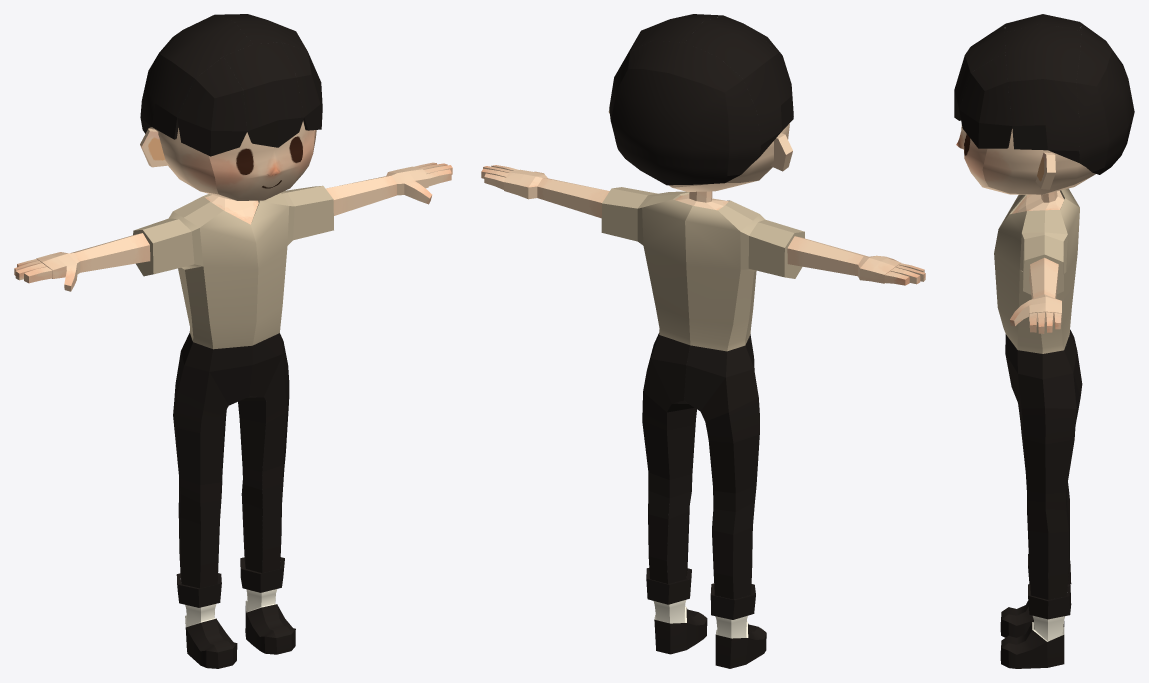
Rendered from NPC1_B_Texture.obj.
3 renders of one model, left to right at view 1: azimuth 30°, elevation 25°; view 2: azimuth 150°, elevation 25°; view 3: azimuth 270°, elevation 25°, orthographic.
Visible parts, largest first — view 1: Body_standardSurface9SG, Head_uv_standardSurface10SG_1, Head_uv_standardSurface10SG, ears_standardSurface10SG; view 2: Body_standardSurface9SG, Head_uv_standardSurface10SG_1, Head_uv_standardSurface10SG; view 3: Body_standardSurface9SG, Head_uv_standardSurface10SG_1, Head_uv_standardSurface10SG, ears_standardSurface10SG.
Boxes of the visible parts, box(x1,y1,x2,y2) form: Body_standardSurface9SG: box(14, 162, 452, 668); Head_uv_standardSurface10SG_1: box(140, 14, 322, 156); Head_uv_standardSurface10SG: box(148, 121, 316, 200); ears_standardSurface10SG: box(140, 129, 169, 167); Body_standardSurface9SG: box(481, 165, 925, 668); Head_uv_standardSurface10SG_1: box(609, 14, 793, 185); Head_uv_standardSurface10SG: box(669, 123, 789, 191); Body_standardSurface9SG: box(994, 188, 1082, 668); Head_uv_standardSurface10SG_1: box(954, 14, 1134, 174); Head_uv_standardSurface10SG: box(956, 124, 1095, 194); ears_standardSurface10SG: box(1035, 152, 1055, 189).
Bounding box in the file's own units: 15.43 × 21.12 × 5.54.
2 materials, 2 textured.
